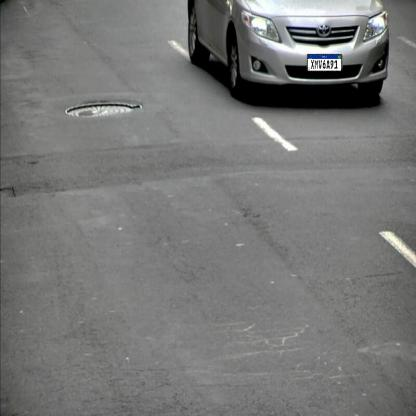PlacaM: (307, 54, 342, 71)
